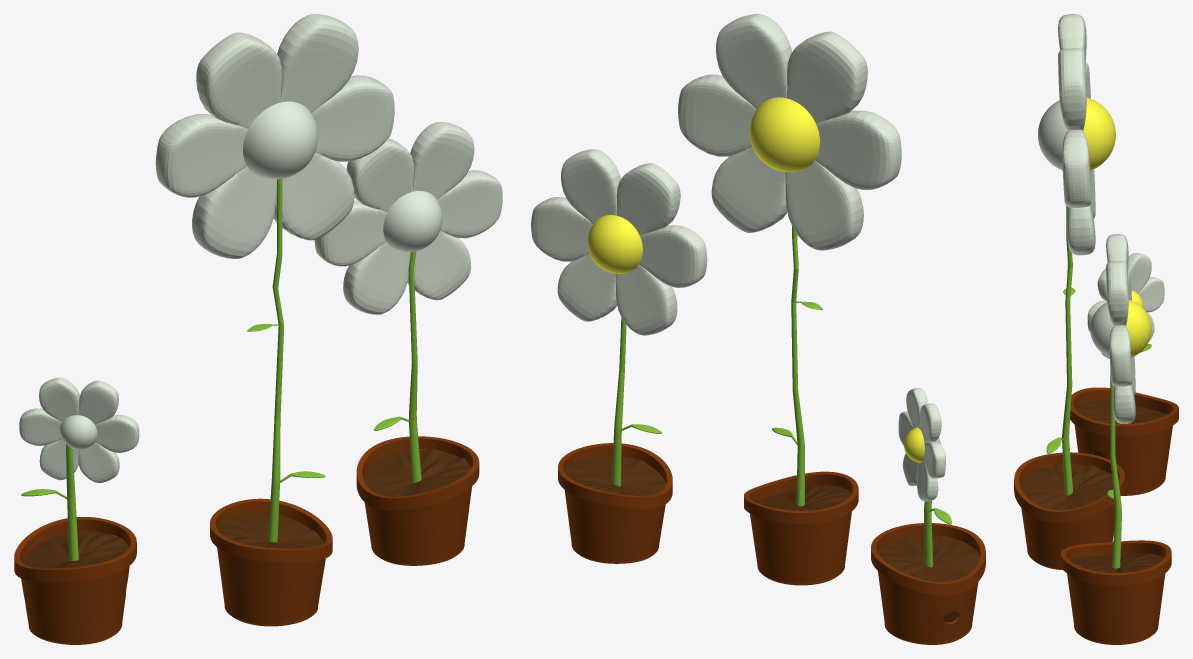
File: FleurFamily.fbx
3 views of the same model, side by side, from view 1: azimuth 30°, elevation 25°; view 2: azimuth 150°, elevation 25°; view 3: azimuth 270°, elevation 25° (orthographic). The views are drawn at different scales.
Visible parts, largest first — view 1: Sphere.001 offset 2.004, Sphere.001 offset 2.003, pot.002, pot.001, pot, Sphere.001 offset 2.001; view 2: Sphere.001 offset 2.004, Sphere.001 offset 2.003, pot.001, pot.002, pot, Sphere.001 offset 2.001; view 3: pot.002, pot.001, Sphere.001 offset 2.004, pot, Sphere.001 offset 2.003, Sphere.001 offset 2.001.
Part boxes in pixels (bbox=[...]): Sphere.001 offset 2.004: bbox=[155, 14, 394, 258]; Sphere.001 offset 2.003: bbox=[314, 122, 502, 314]; pot.002: bbox=[210, 178, 332, 626]; pot.001: bbox=[356, 251, 479, 565]; pot: bbox=[14, 444, 136, 644]; Sphere.001 offset 2.001: bbox=[19, 377, 139, 482]; Sphere.001 offset 2.004: bbox=[678, 14, 901, 250]; Sphere.001 offset 2.003: bbox=[531, 149, 707, 335]; pot.001: bbox=[558, 317, 672, 563]; pot.002: bbox=[744, 226, 858, 585]; pot: bbox=[871, 501, 985, 644]; Sphere.001 offset 2.001: bbox=[898, 388, 945, 501]; pot.002: bbox=[1014, 206, 1124, 569]; pot.001: bbox=[1061, 370, 1171, 644]; Sphere.001 offset 2.004: bbox=[1038, 14, 1115, 255]; pot: bbox=[1070, 344, 1178, 495]; Sphere.001 offset 2.003: bbox=[1090, 234, 1151, 423]; Sphere.001 offset 2.001: bbox=[1087, 253, 1164, 358].
Bounding box in the file's own units: 973 × 1132 × 323.
